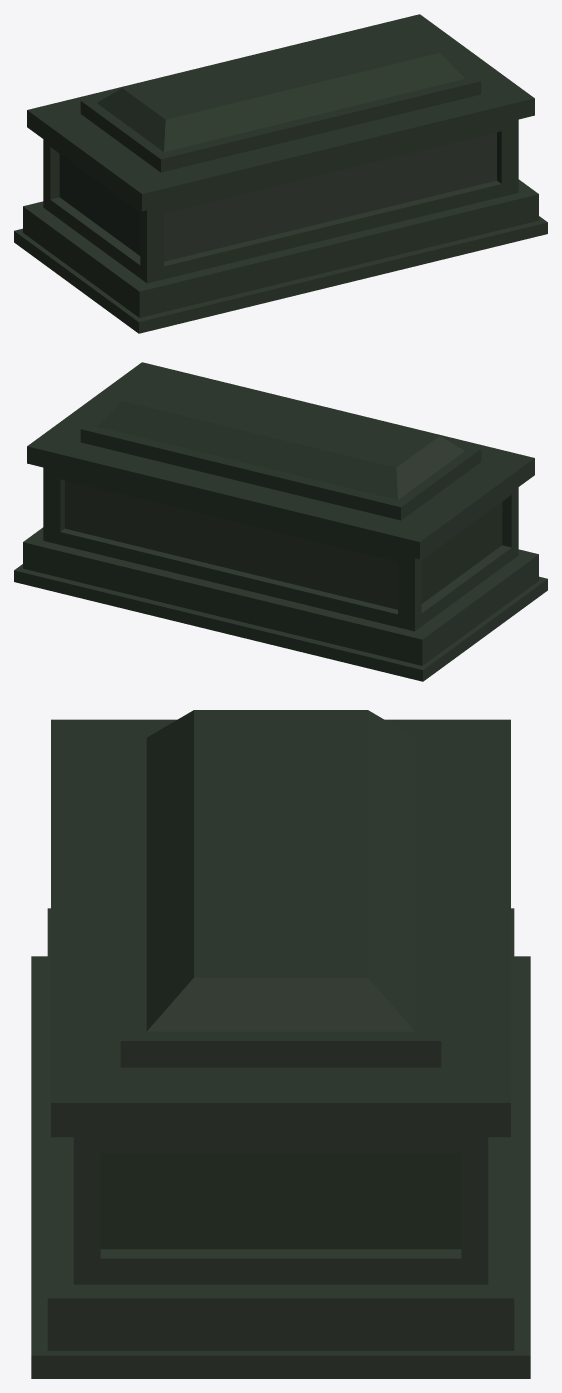
File: SF_Prop_Undead_Chest_01.glb
The picture shows the model from 3 angles, top to bottom: view 1: azimuth 30°, elevation 25°; view 2: azimuth 150°, elevation 25°; view 3: azimuth 270°, elevation 25°; orthographic projection. The views are drawn at different scales.
Visible parts, largest first — view 1: SF_Prop_Undead_Chest_01, SF_Prop_Undead_Chest_Lid_01; view 2: SF_Prop_Undead_Chest_01, SF_Prop_Undead_Chest_Lid_01; view 3: SF_Prop_Undead_Chest_Lid_01, SF_Prop_Undead_Chest_01.
Part boxes in pixels (x1,y1,x2,y2): SF_Prop_Undead_Chest_01: (14, 119, 547, 333); SF_Prop_Undead_Chest_Lid_01: (27, 14, 534, 211); SF_Prop_Undead_Chest_01: (14, 467, 547, 681); SF_Prop_Undead_Chest_Lid_01: (27, 362, 534, 559); SF_Prop_Undead_Chest_Lid_01: (51, 710, 510, 1137); SF_Prop_Undead_Chest_01: (31, 908, 530, 1378).
Size of the model in its own units: 0.0351 by 0.0137 by 0.0185.
1 material, 1 textured.
